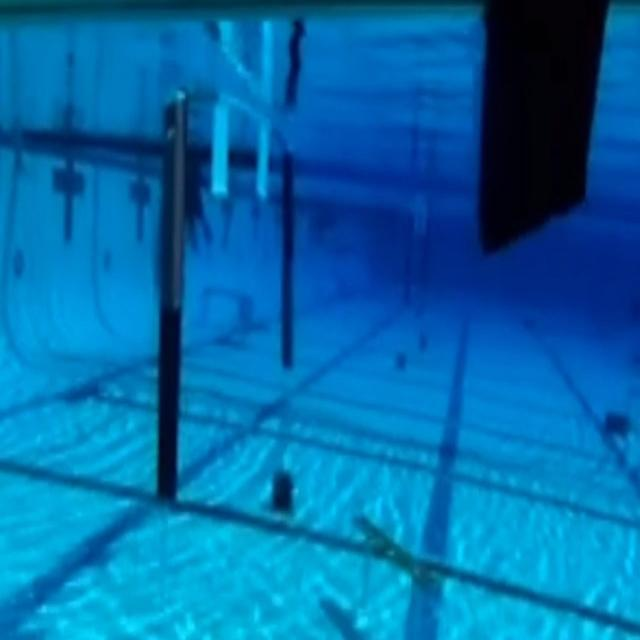Gate: (137, 68, 317, 510)
